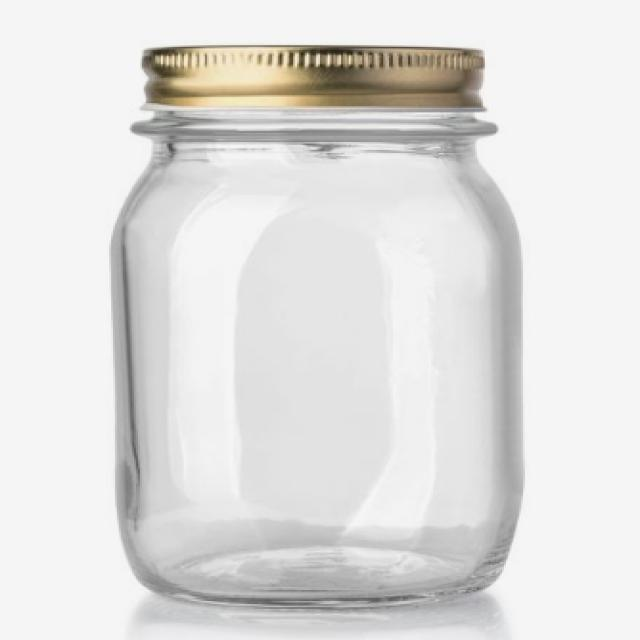ToplesKaca: (107, 44, 527, 608)
